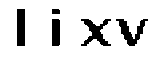i: (50, 5, 66, 51)
l: (12, 4, 33, 51)
v: (115, 13, 148, 49)
x: (78, 15, 114, 50)
